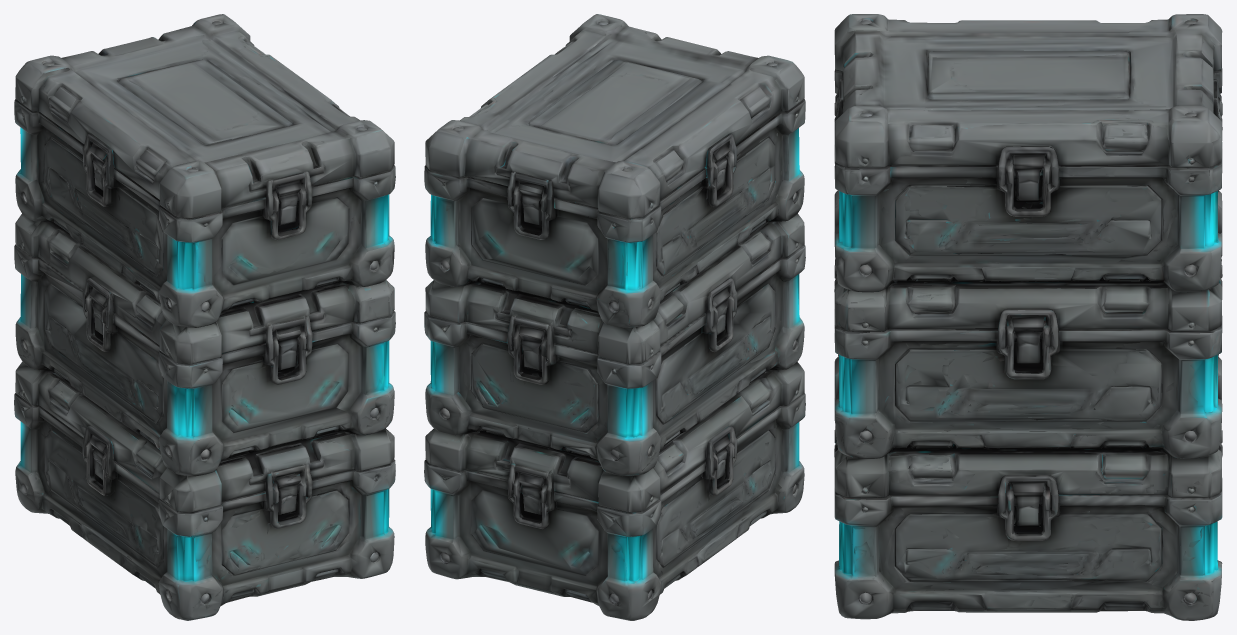
File: cargo_crates.glb
3 views of the same model, side by side, from view 1: azimuth 30°, elevation 25°; view 2: azimuth 150°, elevation 25°; view 3: azimuth 270°, elevation 25° (orthographic). The views are drawn at different scales.
Parts seen in each view (by area): view 1: node_0; view 2: node_0; view 3: node_0.
Boxes of the visible parts, x1,y1,x2,y2 form: node_0: [14, 14, 395, 620]; node_0: [424, 14, 805, 620]; node_0: [834, 14, 1222, 620].
Size of the model in its own units: 0.4884 by 0.9333 by 0.6592.
Materials: 1 (1 with a texture image).
